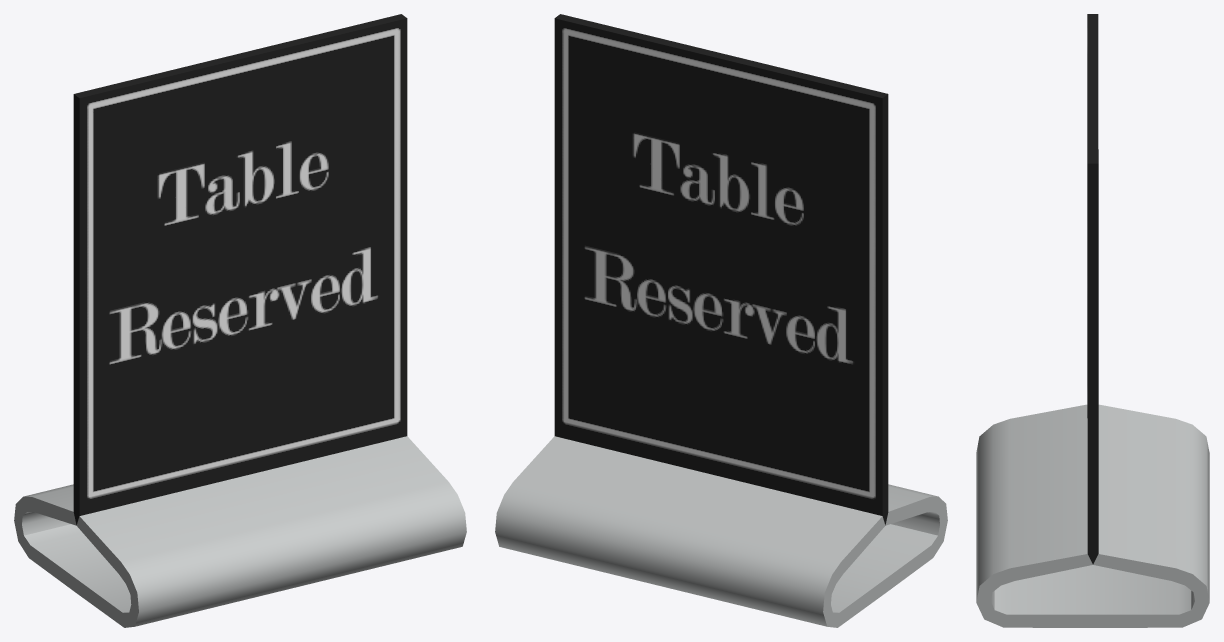
Rendered from TableCards01_4.FBX.
The picture shows the model from 3 angles, left to right: view 1: azimuth 30°, elevation 25°; view 2: azimuth 150°, elevation 25°; view 3: azimuth 270°, elevation 25°; orthographic projection. The views are drawn at different scales.
Visible parts, largest first — view 1: TableCards01_4; view 2: TableCards01_4; view 3: TableCards01_4.
Part boxes in pixels (left/top/right/bottom): TableCards01_4: left=14, top=14, right=466, bottom=627; TableCards01_4: left=495, top=14, right=947, bottom=627; TableCards01_4: left=976, top=14, right=1209, bottom=627.
Size of the model in its own units: 12 by 17.38 by 7.92.
